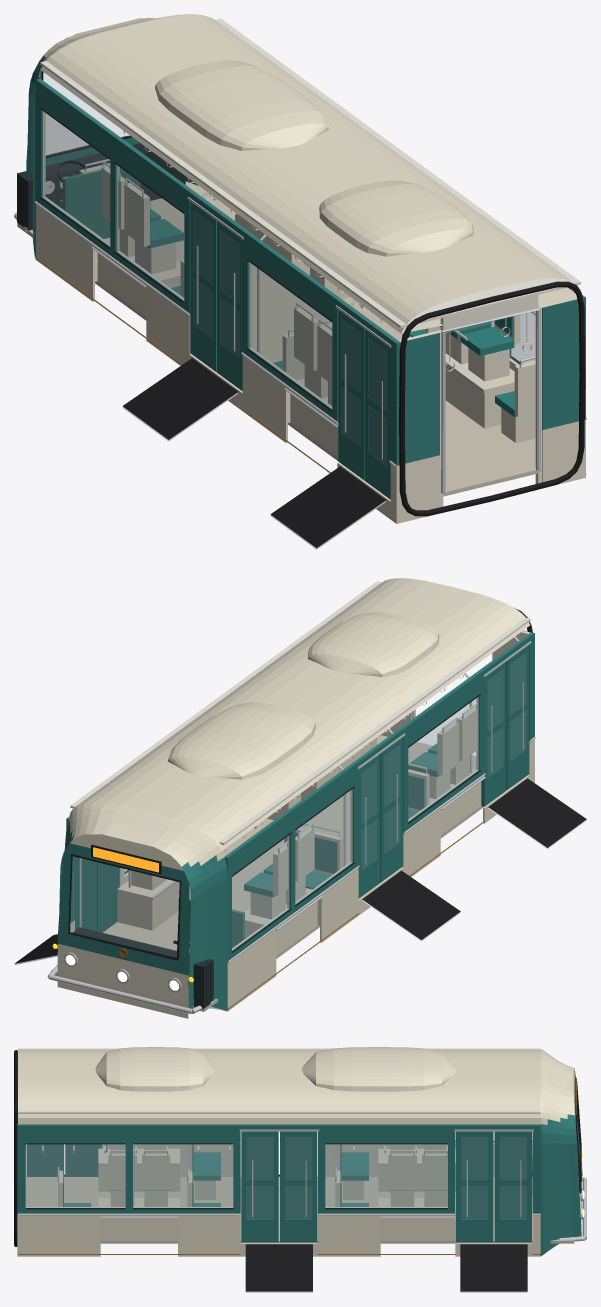
The model's file is carrow_tram_front.glb.
3 views of the same model, one above another, from view 1: azimuth 30°, elevation 25°; view 2: azimuth 150°, elevation 25°; view 3: azimuth 270°, elevation 25° (orthographic). The views are drawn at different scales.
Visible parts, largest first — view 1: endwall_B, fairings, side_L_2, roof_0, roof_5, floor, roof_2, side_L_1, glass_L_1_0, roof_3, glass_L_2_0, glass_L_2_1 (+34 smaller); view 2: nose, fairings, side_L_2, roof_5, glass_windscreen, roof_0, roof_2, side_L_1, glass_L_1_0, floor, roof_3, glass_L_2_0 (+30 smaller); view 3: side_R_0, fairings, side_R_1, nose, glass_R_1_0, roof_5, roof_0, glass_R_0_0, glass_R_0_1, roof_2, floor, roof_3 (+37 smaller).
Boxes of the visible parts, bbox=[...] form: endwall_B: bbox=[396, 281, 585, 523]; fairings: bbox=[155, 60, 473, 256]; side_L_2: bbox=[34, 78, 193, 365]; roof_0: bbox=[340, 234, 580, 340]; roof_5: bbox=[40, 14, 280, 113]; floor: bbox=[17, 181, 541, 496]; roof_2: bbox=[220, 146, 460, 245]; side_L_1: bbox=[241, 230, 341, 472]; glass_L_1_0: bbox=[249, 262, 331, 408]; roof_3: bbox=[160, 102, 400, 201]; glass_L_2_0: bbox=[116, 165, 183, 300]; glass_L_2_1: bbox=[42, 111, 109, 246]; nose: bbox=[47, 802, 227, 1018]; fairings: bbox=[167, 612, 439, 779]; side_L_2: bbox=[224, 761, 359, 1011]; roof_5: bbox=[70, 765, 274, 849]; glass_windscreen: bbox=[70, 857, 178, 956]; roof_0: bbox=[326, 578, 530, 662]; roof_2: bbox=[224, 653, 428, 737]; side_L_1: bbox=[400, 669, 485, 876]; glass_L_1_0: bbox=[408, 697, 478, 821]; floor: bbox=[50, 735, 506, 1011]; roof_3: bbox=[173, 690, 377, 774]; glass_L_2_0: bbox=[295, 789, 352, 904]; side_R_0: bbox=[18, 1124, 240, 1256]; fairings: bbox=[95, 1047, 455, 1091]; side_R_1: bbox=[318, 1124, 455, 1256]; nose: bbox=[540, 1049, 586, 1256]; glass_R_1_0: bbox=[325, 1144, 447, 1207]; roof_5: bbox=[453, 1048, 540, 1124]; roof_0: bbox=[18, 1048, 104, 1124]; glass_R_0_0: bbox=[26, 1144, 125, 1207]; glass_R_0_1: bbox=[133, 1144, 232, 1207]; roof_2: bbox=[192, 1048, 279, 1124]; floor: bbox=[25, 1177, 574, 1243]; roof_3: bbox=[279, 1048, 366, 1124].
Bounding box in the file's own units: 4.45 × 3.1 × 9.21.
